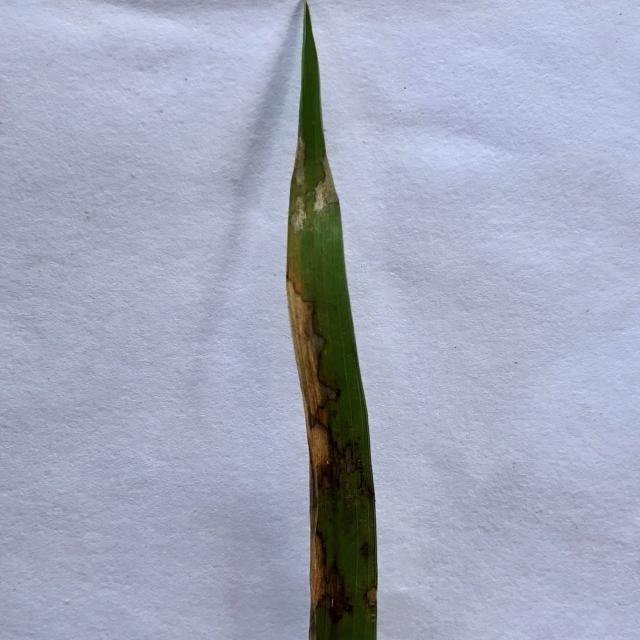leaf blight: (283, 279, 339, 474), (308, 510, 338, 613), (312, 160, 339, 218), (287, 137, 308, 187), (288, 196, 308, 233), (360, 585, 379, 617), (304, 630, 319, 640)
